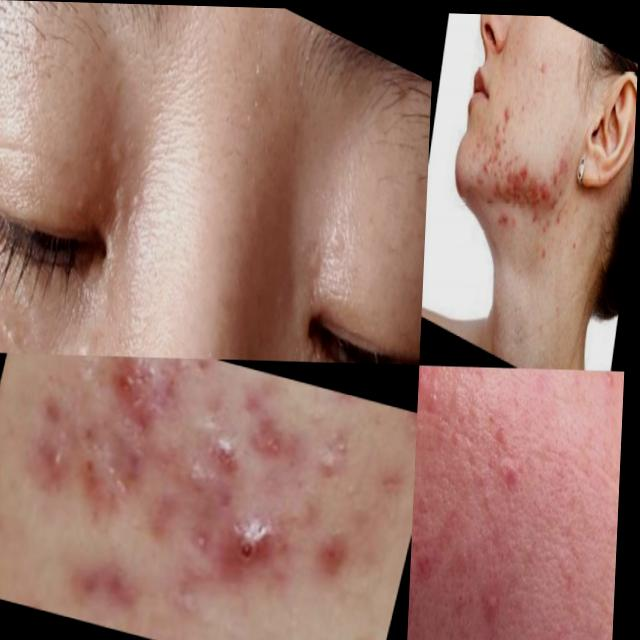7: (91, 189, 110, 228)
8: (210, 504, 295, 593), (199, 423, 263, 482), (475, 576, 508, 640), (479, 123, 505, 176), (451, 573, 476, 624), (415, 550, 440, 595), (483, 475, 506, 523), (537, 171, 559, 215), (498, 97, 515, 133), (421, 363, 435, 397)
9: (593, 367, 628, 403)
blackheads: (288, 189, 354, 313), (92, 355, 175, 429), (98, 112, 143, 181), (506, 152, 544, 221)
dark spot: (316, 417, 360, 486)
